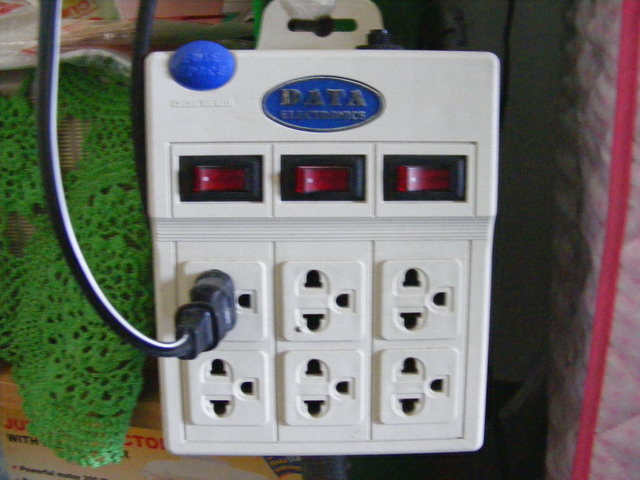Three_eye_plug: (134, 31, 507, 465)
